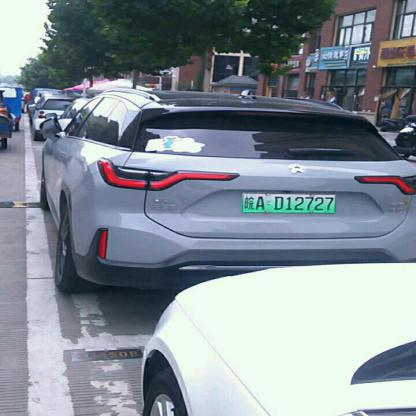lp: (243, 192, 335, 214)
